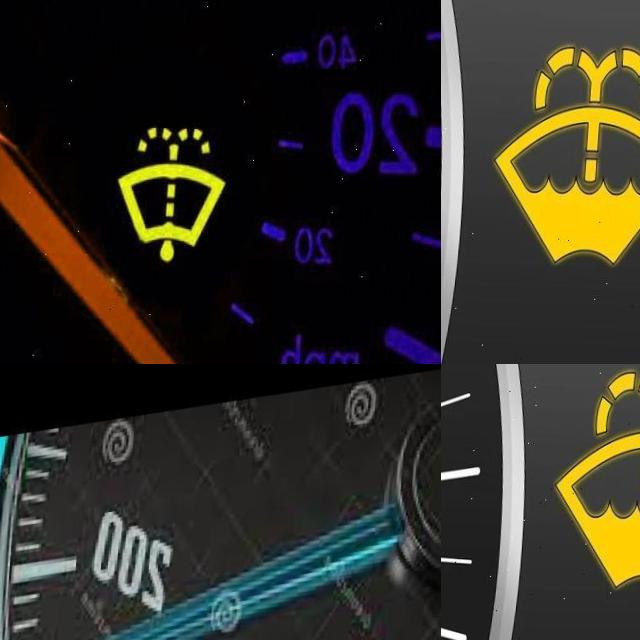Washer Fluid: (492, 40, 640, 269), (118, 123, 235, 258)
